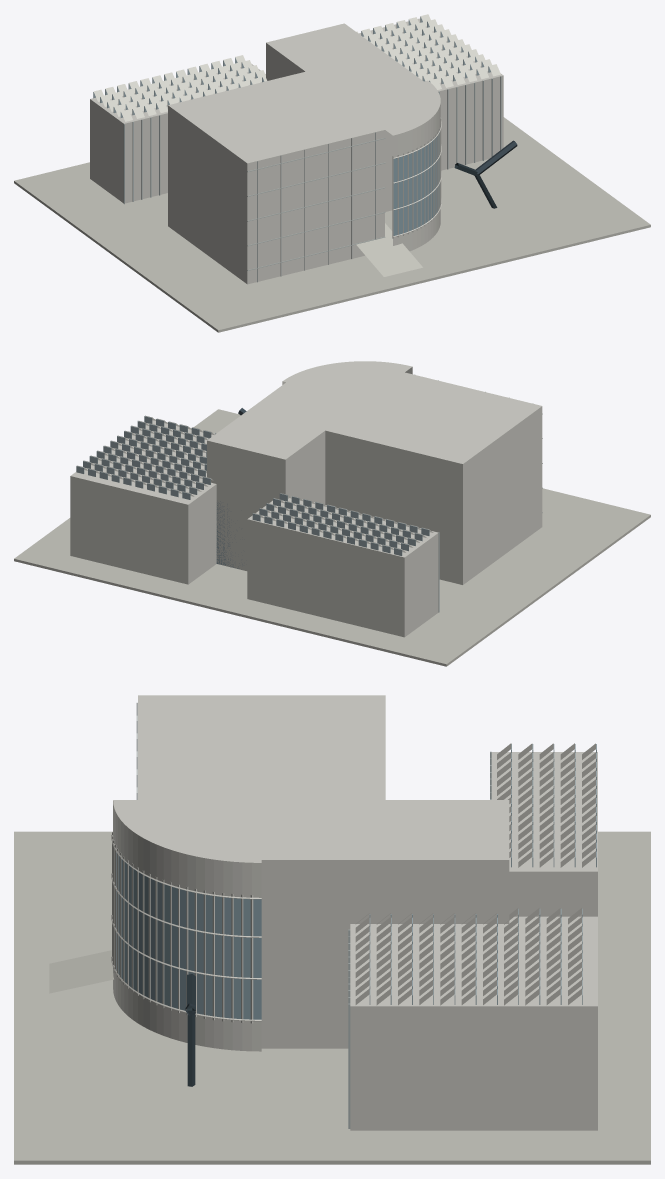
3 renders of one model, top to bottom at view 1: azimuth 30°, elevation 25°; view 2: azimuth 150°, elevation 25°; view 3: azimuth 270°, elevation 25°, orthographic. The views are drawn at different scales.
Parts seen in each view (by area): view 1: high-meier-piano-campus; view 2: high-meier-piano-campus; view 3: high-meier-piano-campus.
Part boxes in pixels (x1,y1,x2,y2): high-meier-piano-campus: (14, 14, 650, 332); high-meier-piano-campus: (14, 361, 650, 666); high-meier-piano-campus: (14, 695, 650, 1164).
Size of the model in its own units: 22 by 6.05 by 18.
